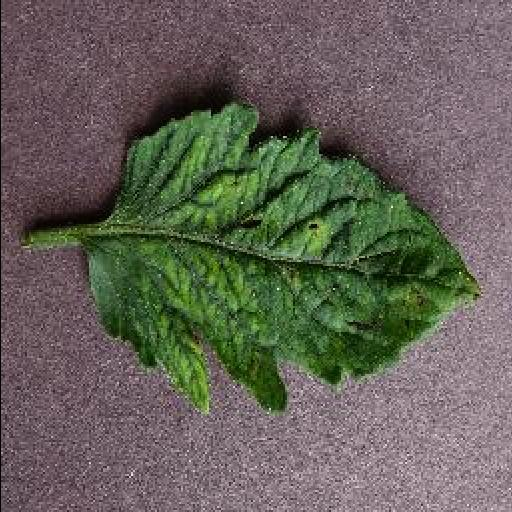disease_tomato: (82, 101, 484, 419)
